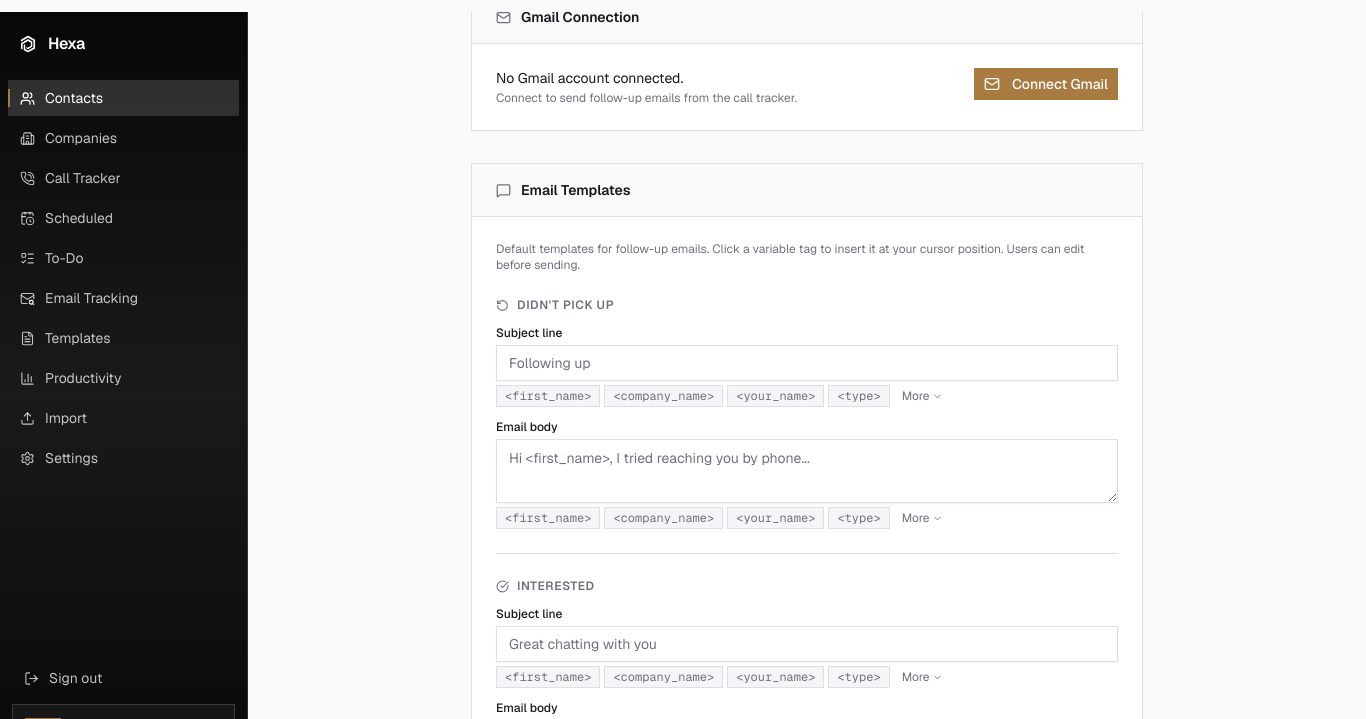
it: SettingsPage › shows variable badges
(page scrolled)
Expected: the 1st button "<first_name>" is shown, [496, 385, 600, 407]
Expected: the 1st button "<company_name>" is shown, [604, 385, 723, 407]
Click the 1st button "More".
click(922, 396)  # box [894, 385, 951, 407]
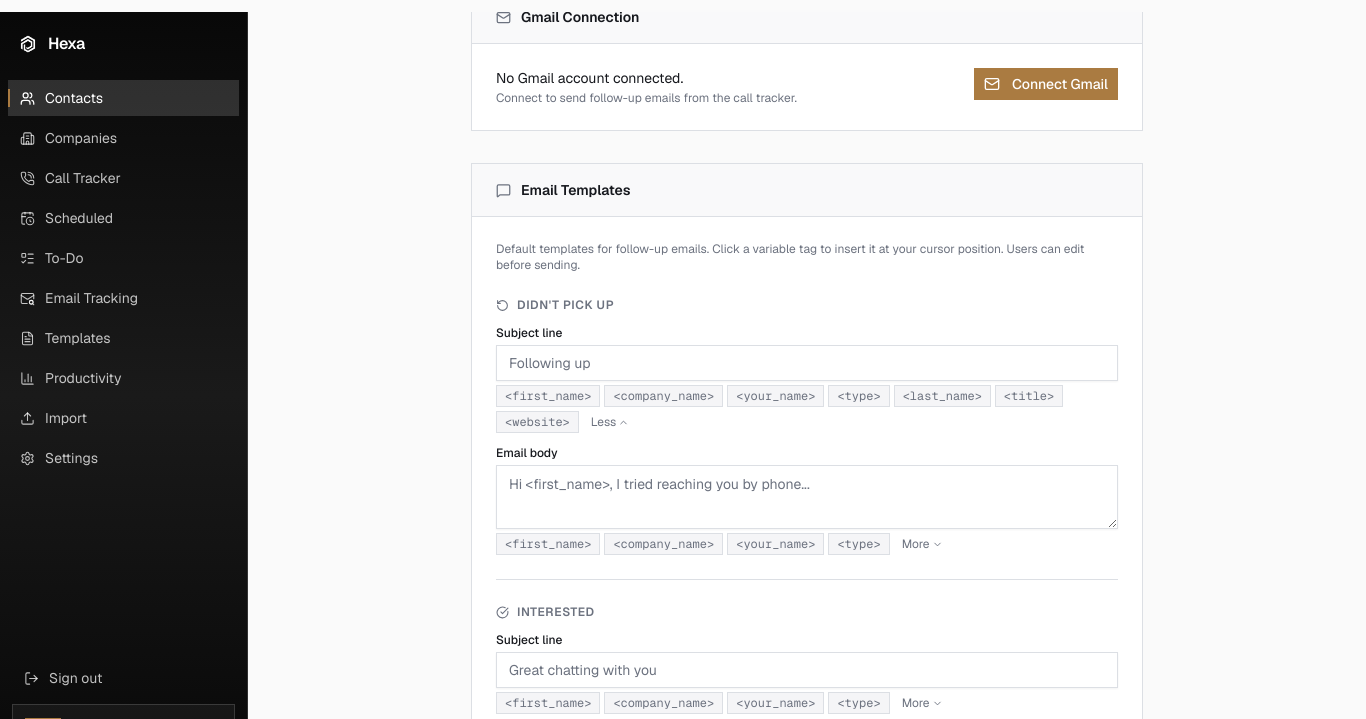
Result: the button "<title>" is shown at [995, 385, 1063, 407]
Result: the button "<website>" is shown at [496, 411, 579, 433]
